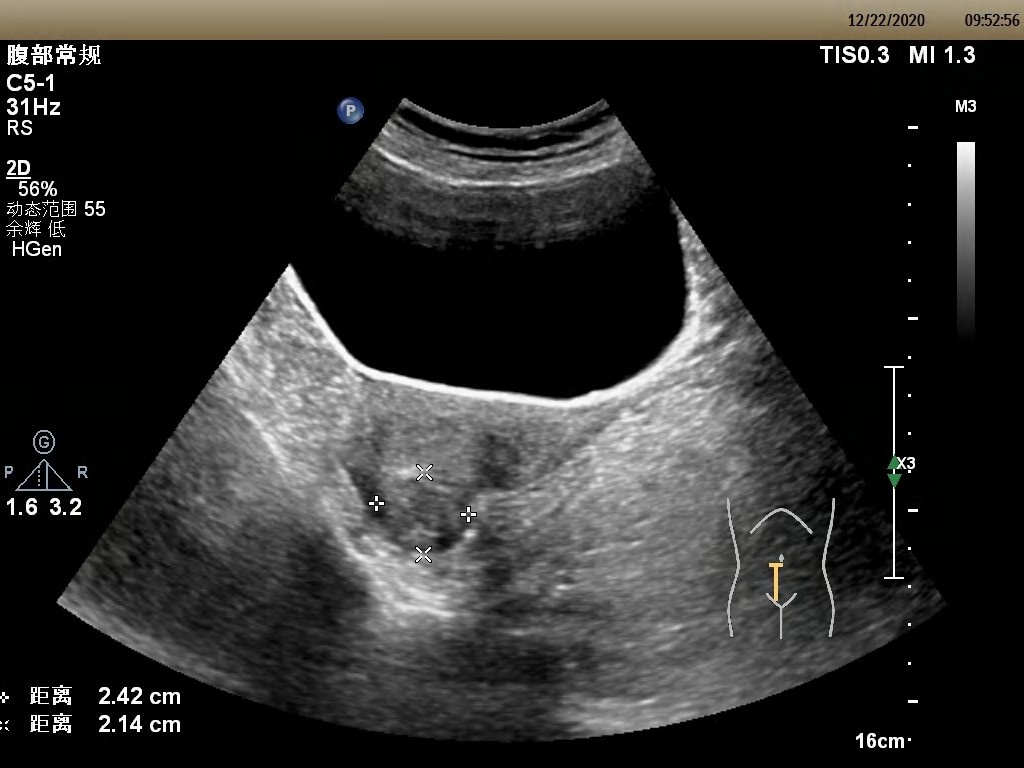肌瘤: (380, 478, 462, 550)
